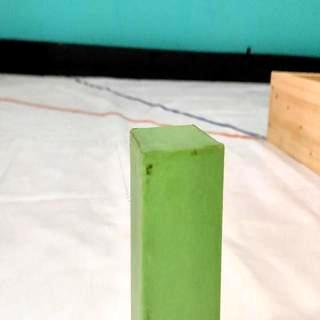greenbox: (130, 124, 226, 320)
